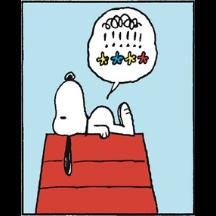snoopy: (53, 70, 137, 178)
